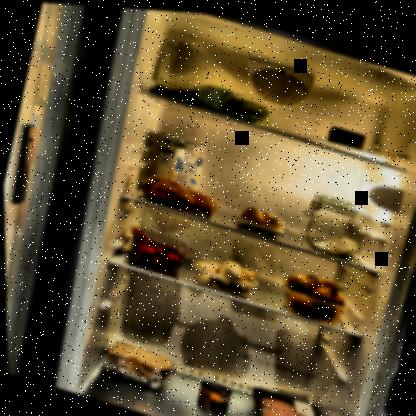cheese: (326, 119, 368, 151)
chicken: (240, 380, 341, 415)
corn: (191, 373, 234, 415)
eggs: (231, 196, 288, 238)
green_beans: (149, 66, 276, 128)
milk: (146, 127, 213, 211)
mushrooms: (188, 247, 262, 296)
onion: (277, 260, 353, 325)
strawberries: (123, 224, 188, 274)
sweet_potato: (132, 168, 220, 218)
